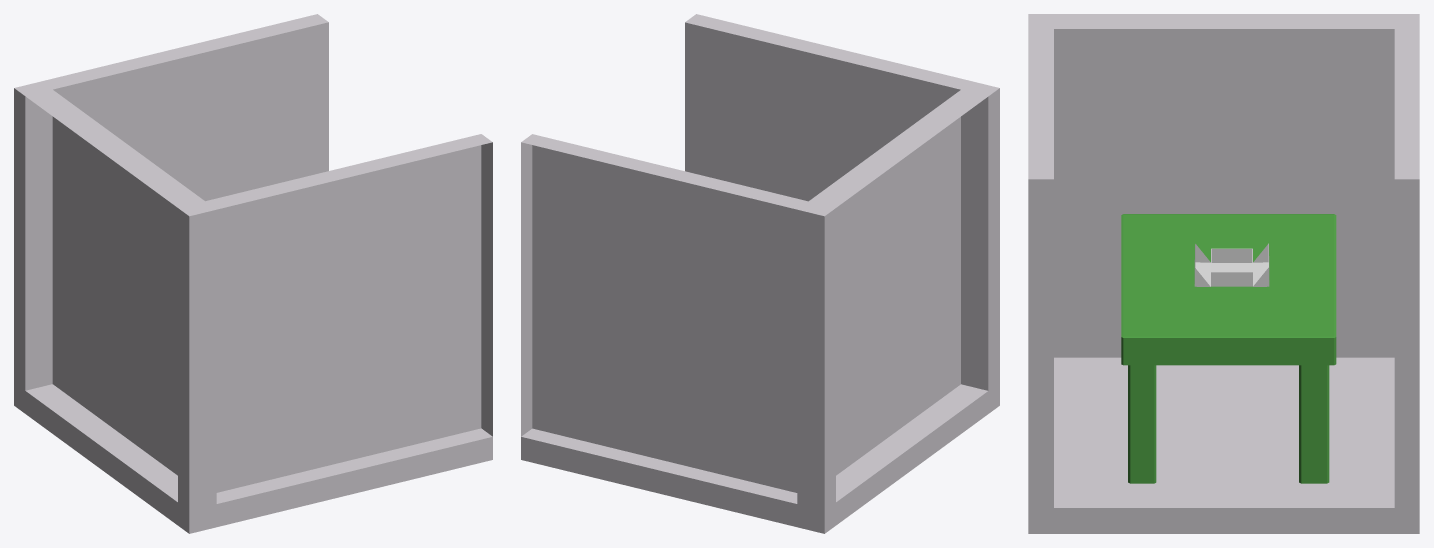
File: box animation2.0.fbx
The picture shows the model from 3 angles, left to right: view 1: azimuth 30°, elevation 25°; view 2: azimuth 150°, elevation 25°; view 3: azimuth 270°, elevation 25°; orthographic projection. The views are drawn at different scales.
Visible parts, largest first — view 1: Cube.003; view 2: Cube.003; view 3: Cube.003, Cube.001, Cube, Cube.004, Cube.002, Cube.005.
Boxes of the visible parts, left/top/right/bottom form: Cube.003: left=14, top=14, right=492, bottom=533; Cube.003: left=521, top=14, right=999, bottom=533; Cube.003: left=1028, top=14, right=1419, bottom=533; Cube.001: left=1121, top=214, right=1336, bottom=483; Cube: left=1211, top=248, right=1252, bottom=286; Cube.004: left=1211, top=248, right=1252, bottom=286; Cube.002: left=1253, top=243, right=1269, bottom=286; Cube.005: left=1194, top=244, right=1210, bottom=286.
Size of the model in its own units: 200 by 200 by 200.
